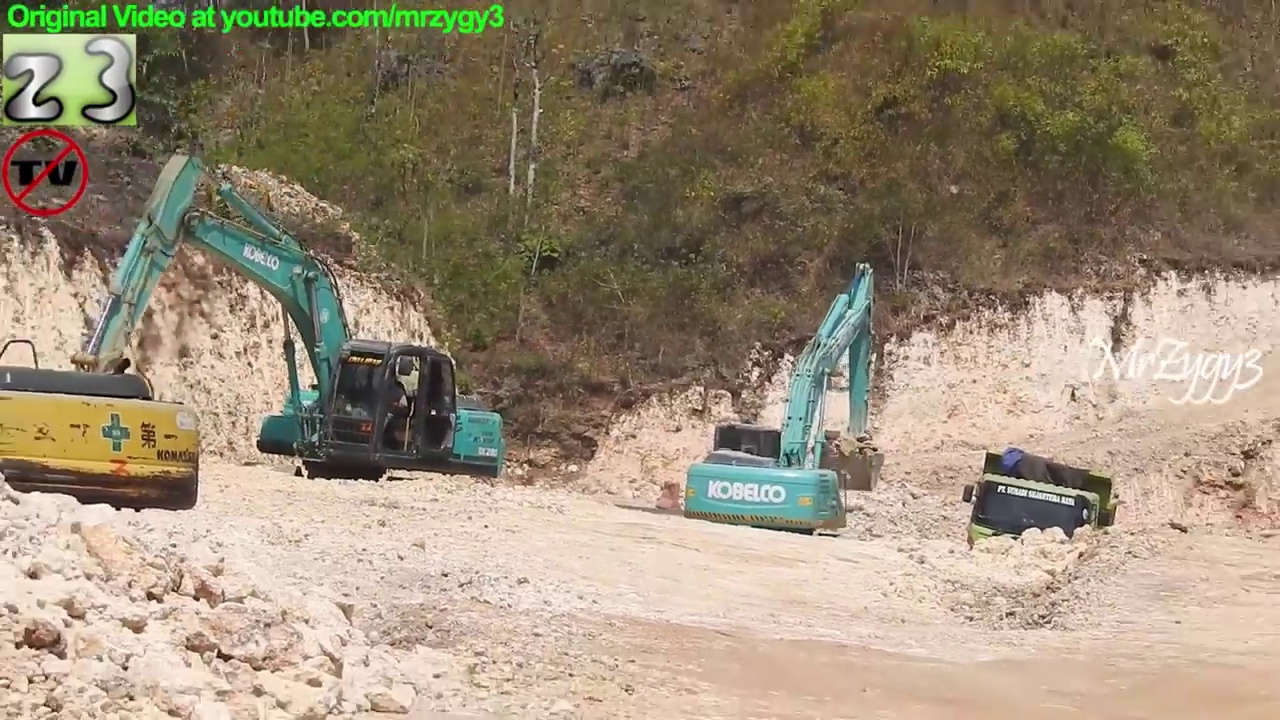excavator: (54, 140, 512, 520), (675, 254, 899, 576), (1, 337, 206, 526)
truck: (958, 447, 1126, 605)
